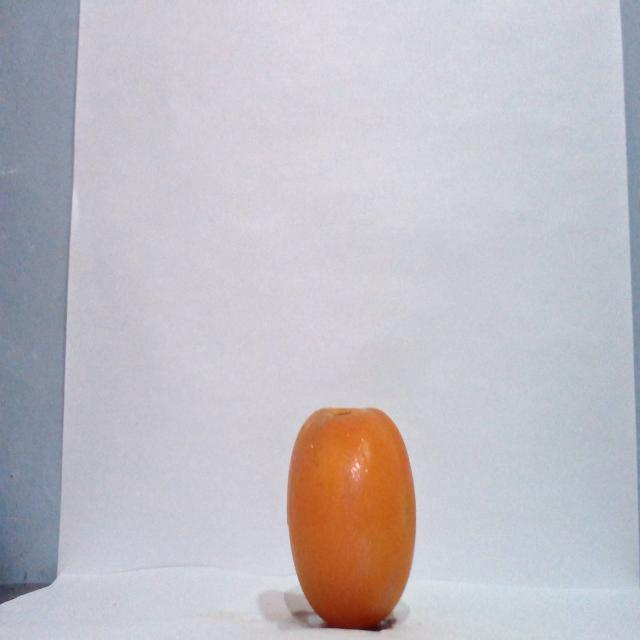Red: (285, 405, 417, 629)
